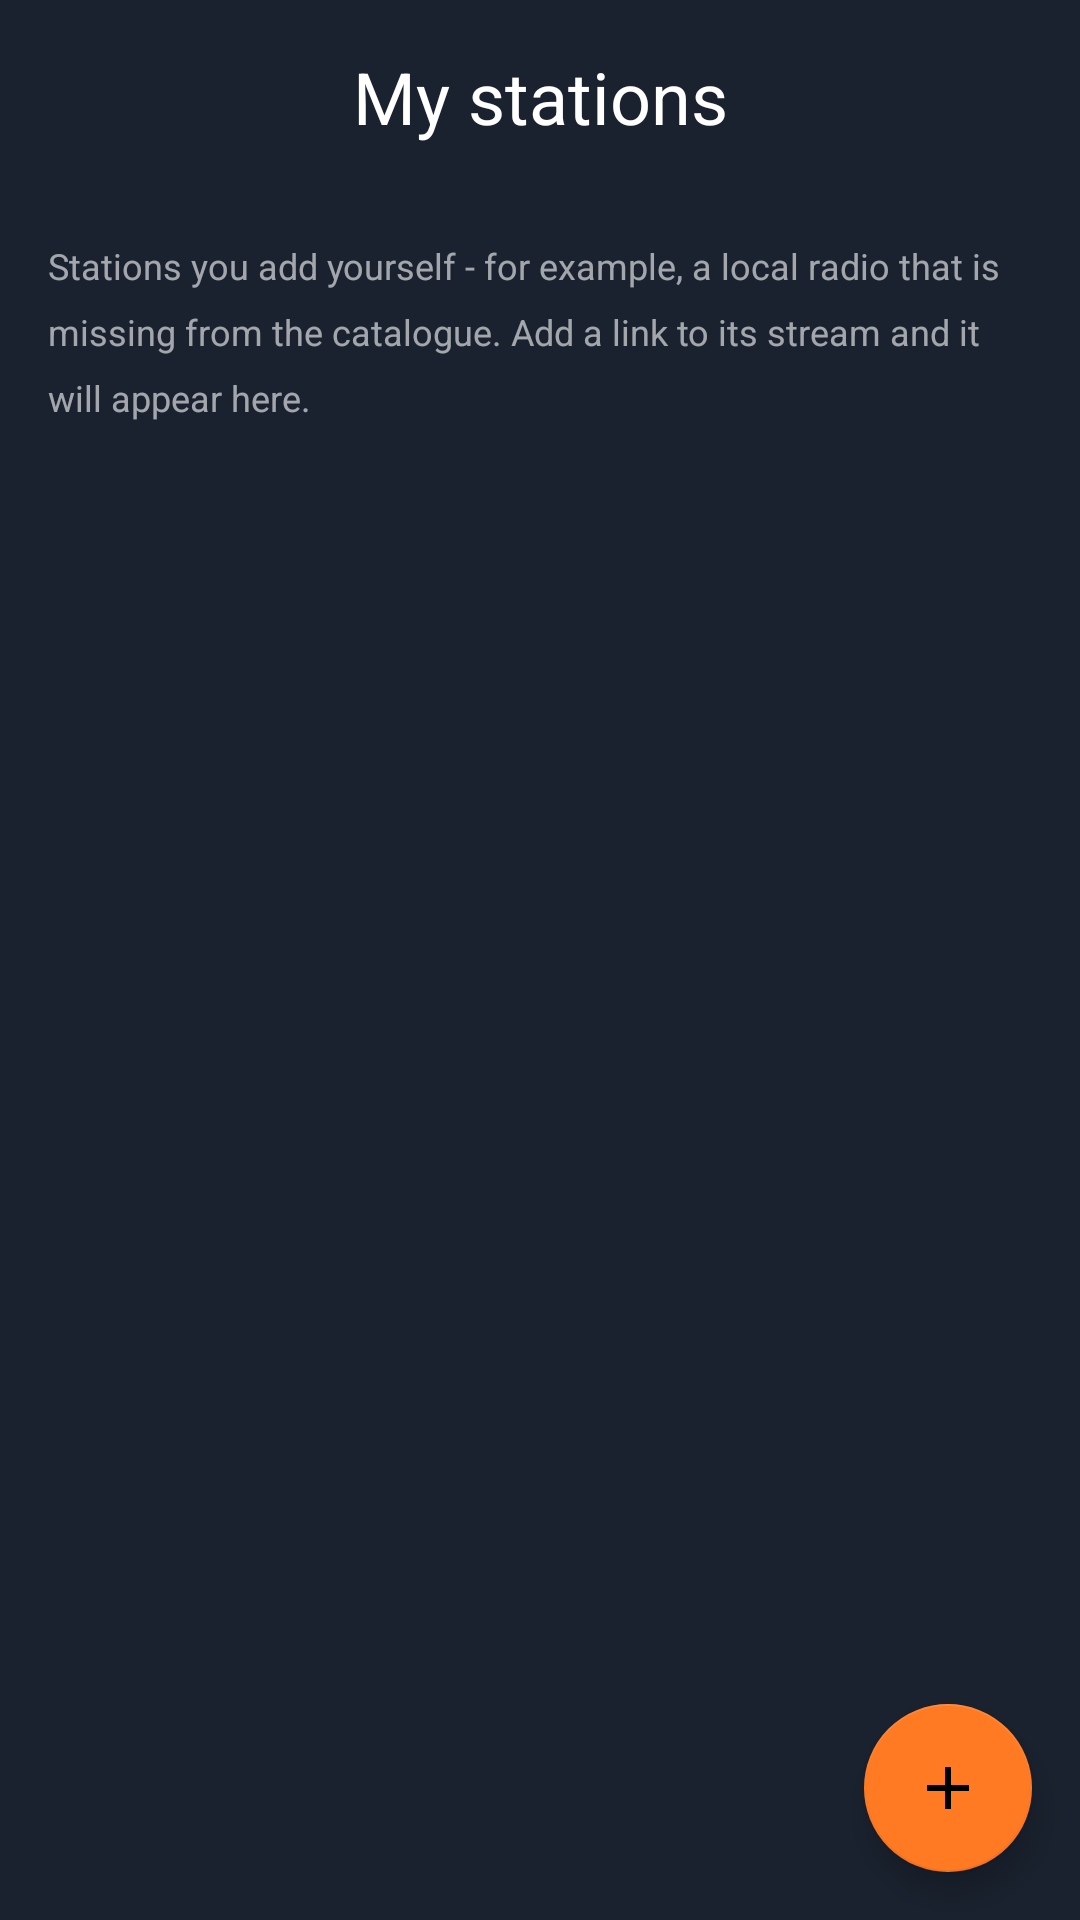

Icon click points for this 1080px×1920px phone screenshot, format point (x, y):
Add a station: point (948, 1788)
